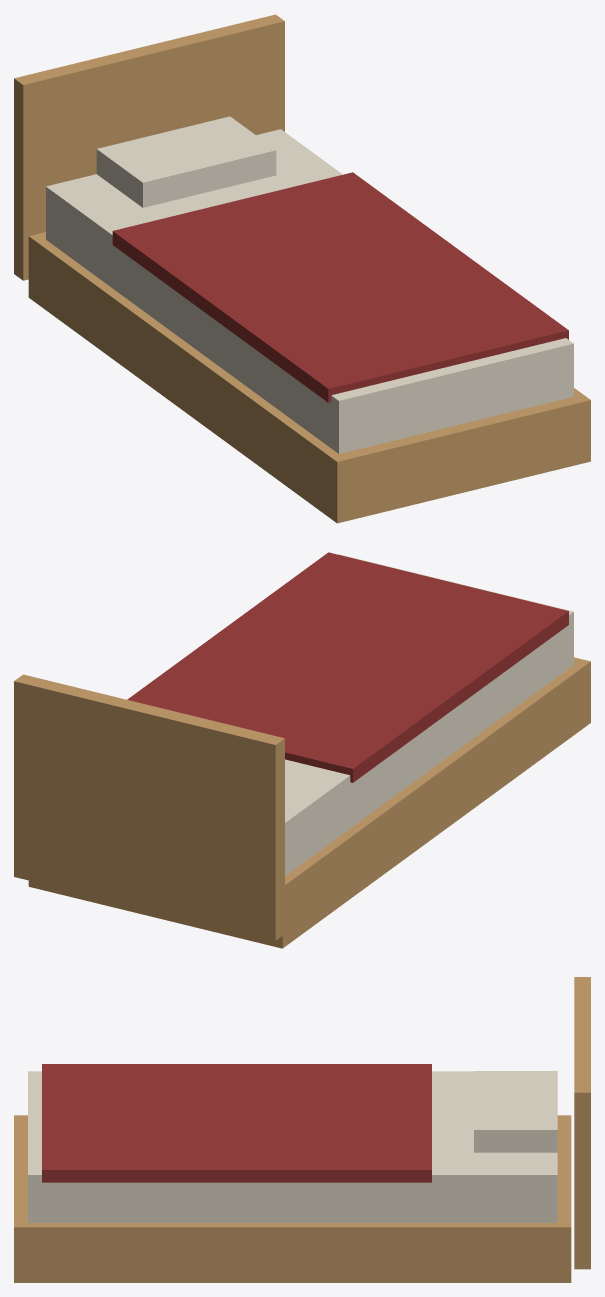
Rendered from GH_Bed_Single_01.glb.
3 views of the same model, one above another, from view 1: azimuth 30°, elevation 25°; view 2: azimuth 150°, elevation 25°; view 3: azimuth 270°, elevation 25° (orthographic). The views are drawn at different scales.
Visible parts, largest first — view 1: GH_Bed_Single_01; view 2: GH_Bed_Single_01; view 3: GH_Bed_Single_01.
Boxes of the visible parts, <box> form: GH_Bed_Single_01: <box>14,14,590,523</box>; GH_Bed_Single_01: <box>14,552,590,948</box>; GH_Bed_Single_01: <box>14,977,590,1282</box>.
Size of the model in its own units: 0.98 by 0.76 by 2.07.
1 material, 1 textured.
